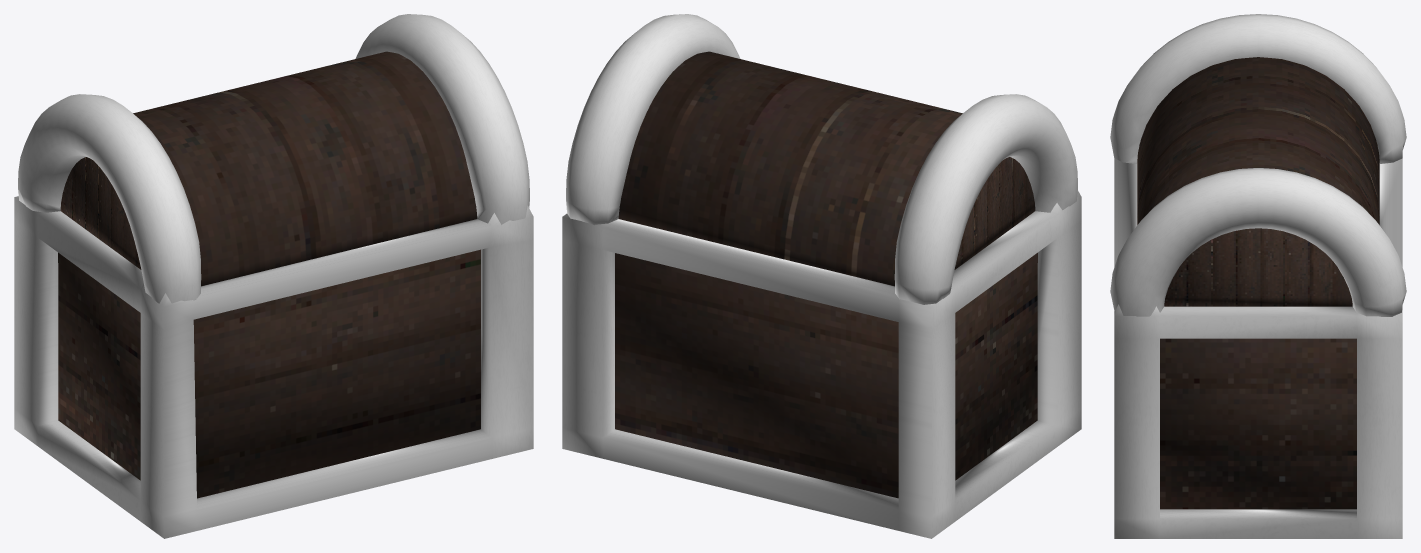
Rendered from chest_new.fbx.
3 views of the same model, side by side, from view 1: azimuth 30°, elevation 25°; view 2: azimuth 150°, elevation 25°; view 3: azimuth 270°, elevation 25° (orthographic). The views are drawn at different scales.
Parts seen in each view (by area): view 1: ChestBottom, Outer, ChestUpper, Torus.001, Torus; view 2: ChestBottom, Outer, ChestUpper, Torus.001, Torus; view 3: Outer, ChestUpper, ChestBottom, Torus, Torus.001.
Boxes of the visible parts, x1,y1,x2,y2 form: ChestBottom: [58, 249, 480, 498]; Outer: [14, 196, 533, 538]; ChestUpper: [60, 51, 477, 286]; Torus.001: [18, 94, 201, 303]; Torus: [355, 14, 529, 224]; ChestBottom: [615, 252, 1037, 498]; Outer: [562, 190, 1081, 538]; ChestUpper: [618, 51, 1035, 286]; Torus.001: [894, 94, 1077, 304]; Torus: [566, 14, 740, 225]; Outer: [1114, 158, 1402, 538]; ChestUpper: [1137, 57, 1379, 306]; ChestBottom: [1160, 338, 1356, 509]; Torus: [1110, 168, 1406, 316]; Torus.001: [1110, 14, 1406, 163].
Bounding box in the file's own units: 350 × 326 × 244.
